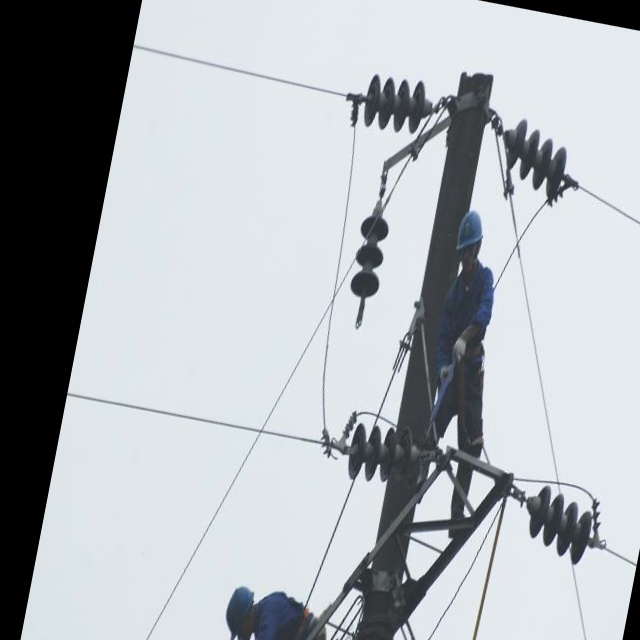Con_Casco: (453, 208, 488, 269)
